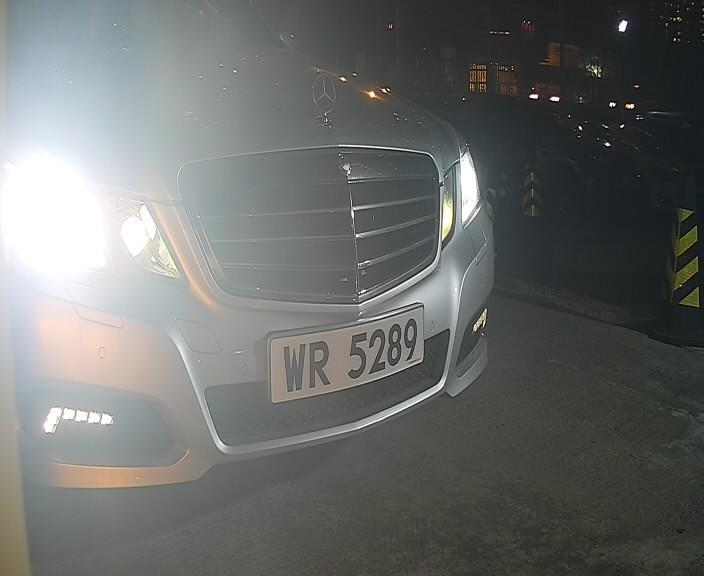License Plate: (271, 301, 428, 407)
